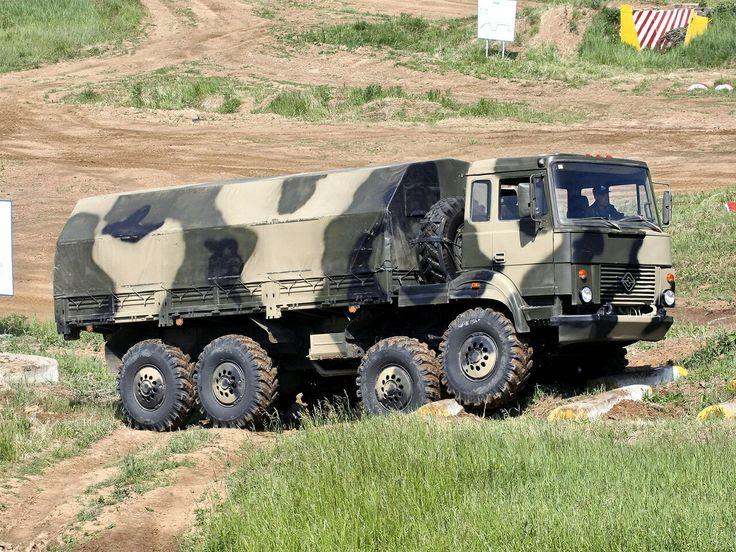truck: (53, 154, 690, 432)
